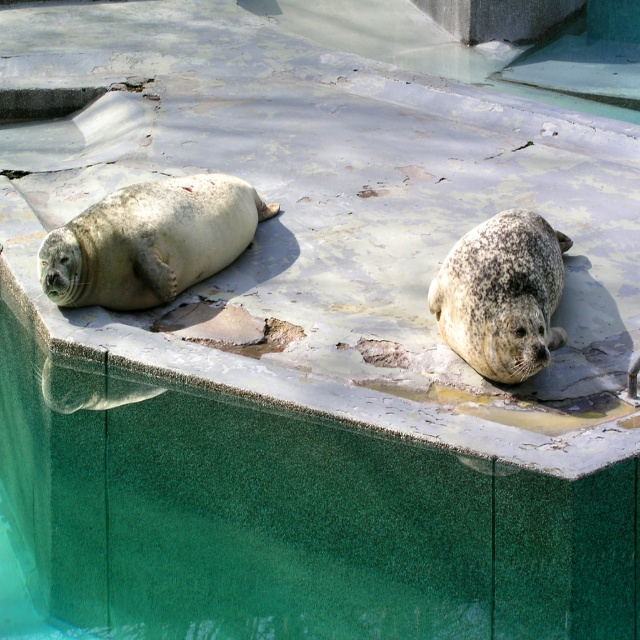Sea lion: (36, 175, 284, 317), (427, 209, 574, 382)
